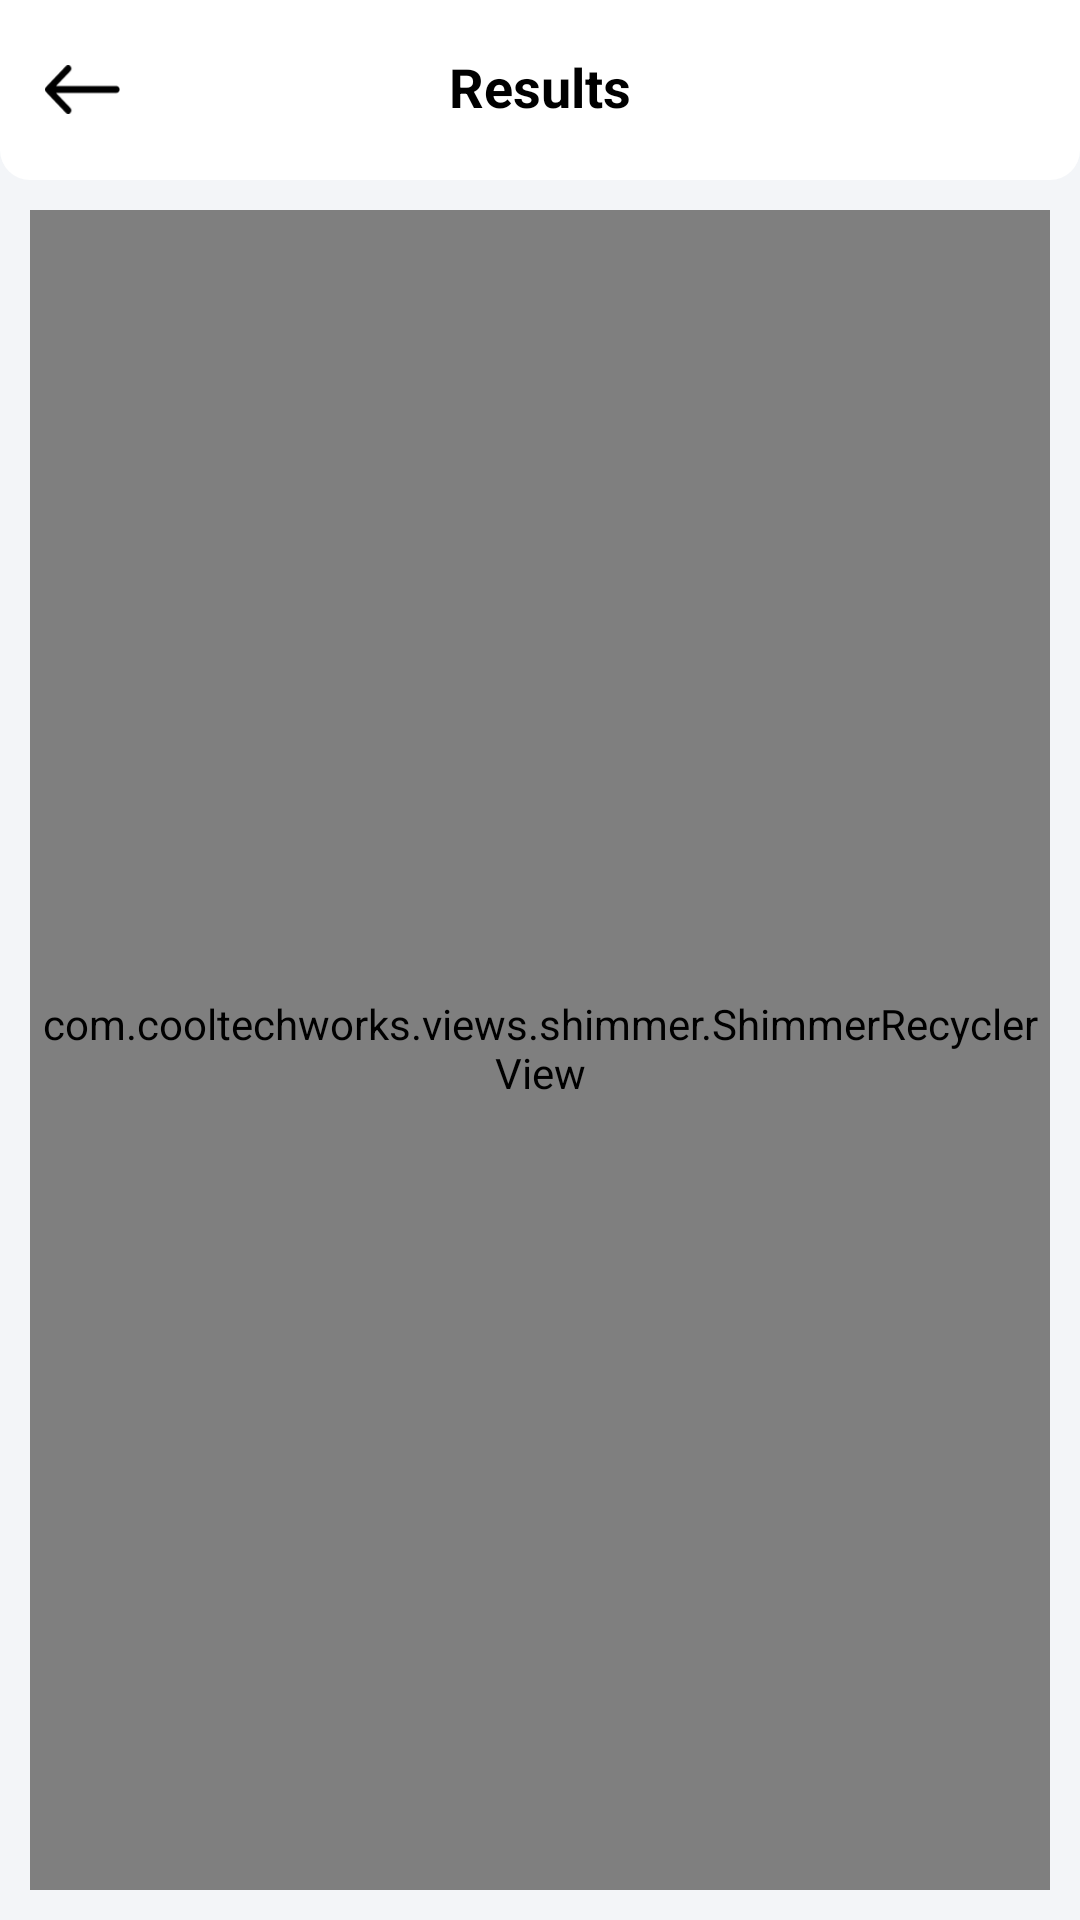

Icons on this 1080 × 1920 Android screen, each with the point to tap as (x=x, y=y):
back: (x=82, y=89)
